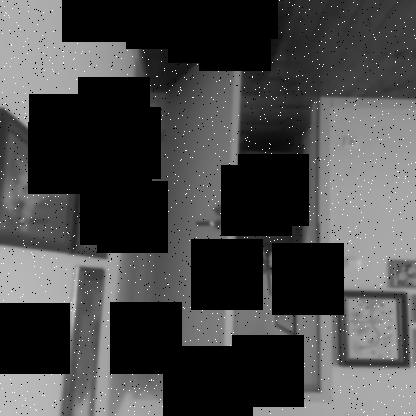Porte: (132, 25, 332, 416)
